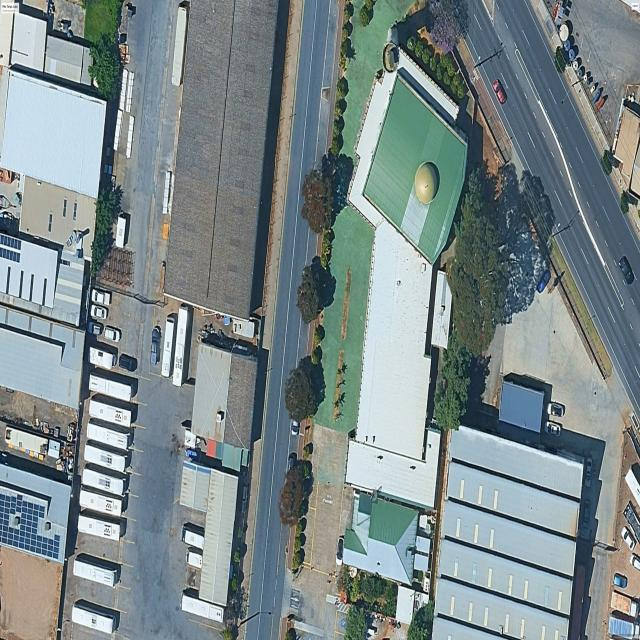Home: (191, 341, 257, 449), (343, 492, 419, 585)
Solar Panels: (0, 488, 62, 560)
mosque: (346, 50, 467, 510)
